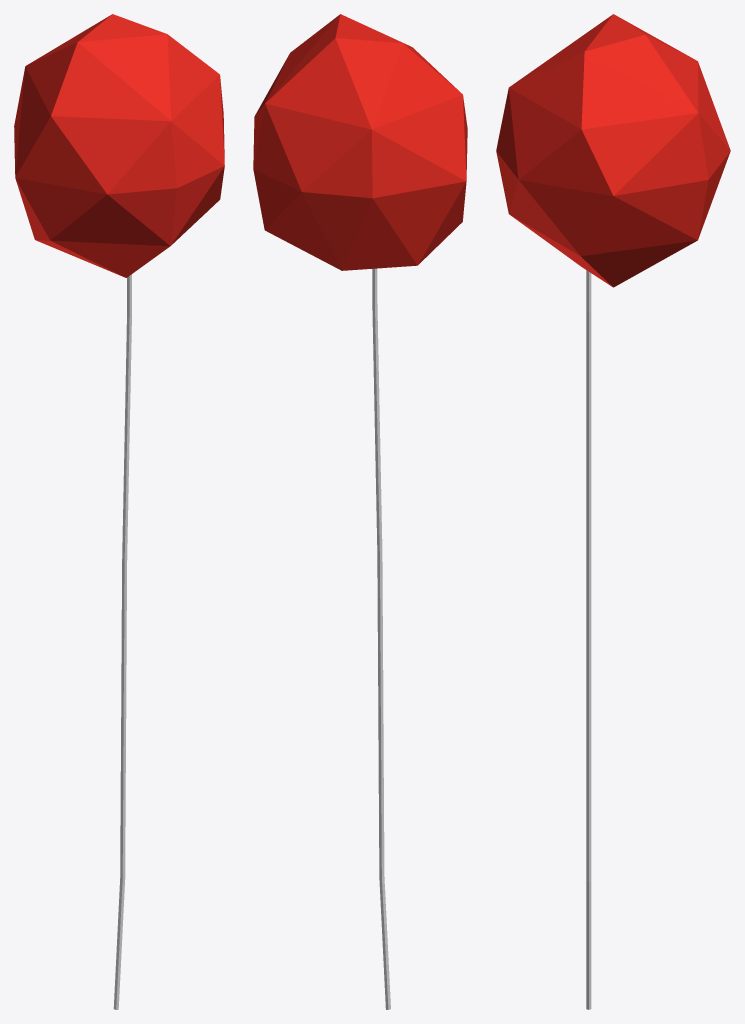
Rendered from Balon.fbx.
3 renders of one model, left to right at view 1: azimuth 30°, elevation 25°; view 2: azimuth 150°, elevation 25°; view 3: azimuth 270°, elevation 25°, orthographic.
Visible parts, largest first — view 1: Icosphere; view 2: Icosphere; view 3: Icosphere.
Boxes of the visible parts, x1,y1,x2,y2 form: Icosphere: (14, 14, 224, 1009); Icosphere: (253, 14, 467, 1009); Icosphere: (496, 14, 730, 1009).
Size of the model in its own units: 25.92 by 115 by 24.83.
